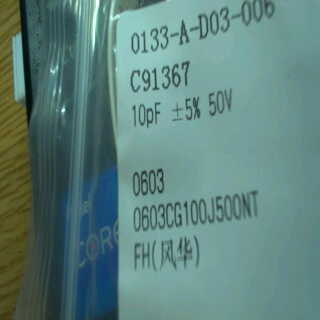10pF: (130, 98, 167, 133)
